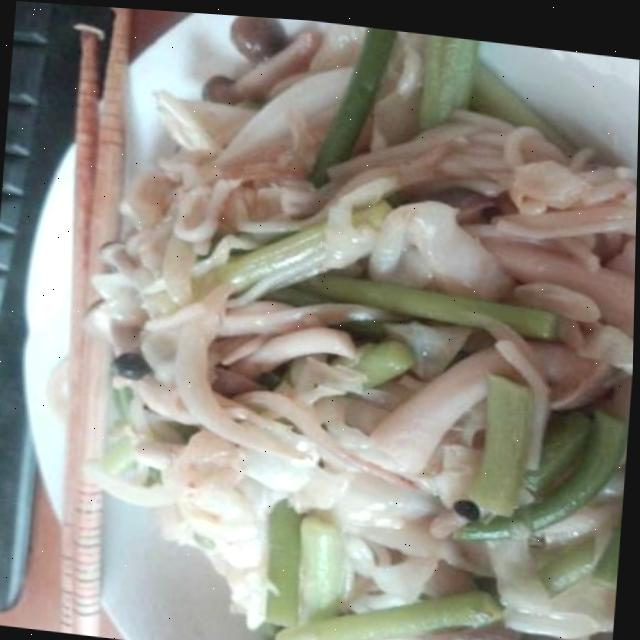面条主食: (5, 1, 640, 640)
